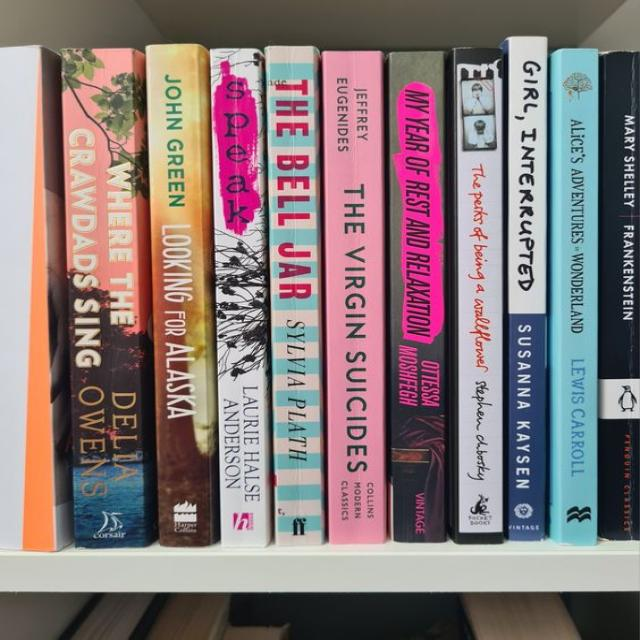book: (61, 48, 155, 546), (146, 44, 218, 546), (321, 51, 386, 544), (266, 47, 325, 544), (211, 49, 270, 545), (387, 52, 446, 542), (448, 49, 502, 541), (549, 49, 598, 545), (503, 37, 547, 540), (598, 51, 639, 540)
